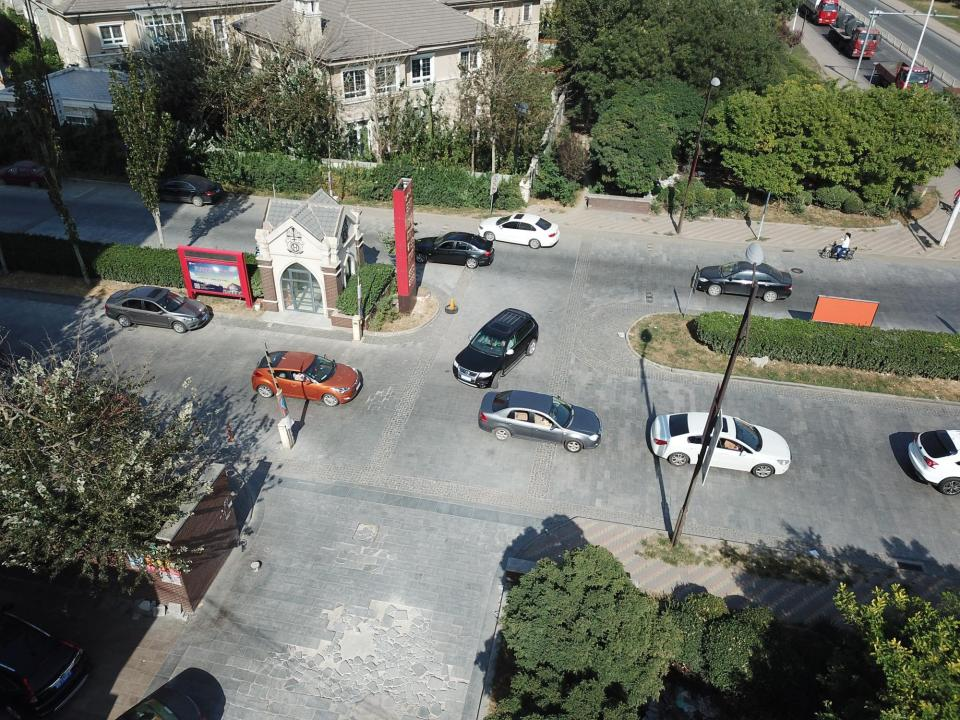car: (0, 604, 91, 718), (648, 413, 791, 478), (477, 391, 603, 452), (452, 308, 538, 390), (252, 351, 362, 407), (104, 286, 210, 334), (697, 262, 792, 302), (907, 429, 960, 494), (406, 232, 495, 269), (478, 214, 562, 249), (149, 173, 223, 205), (0, 160, 56, 190)
truck: (828, 12, 882, 58), (875, 60, 934, 94), (796, 0, 842, 25)
